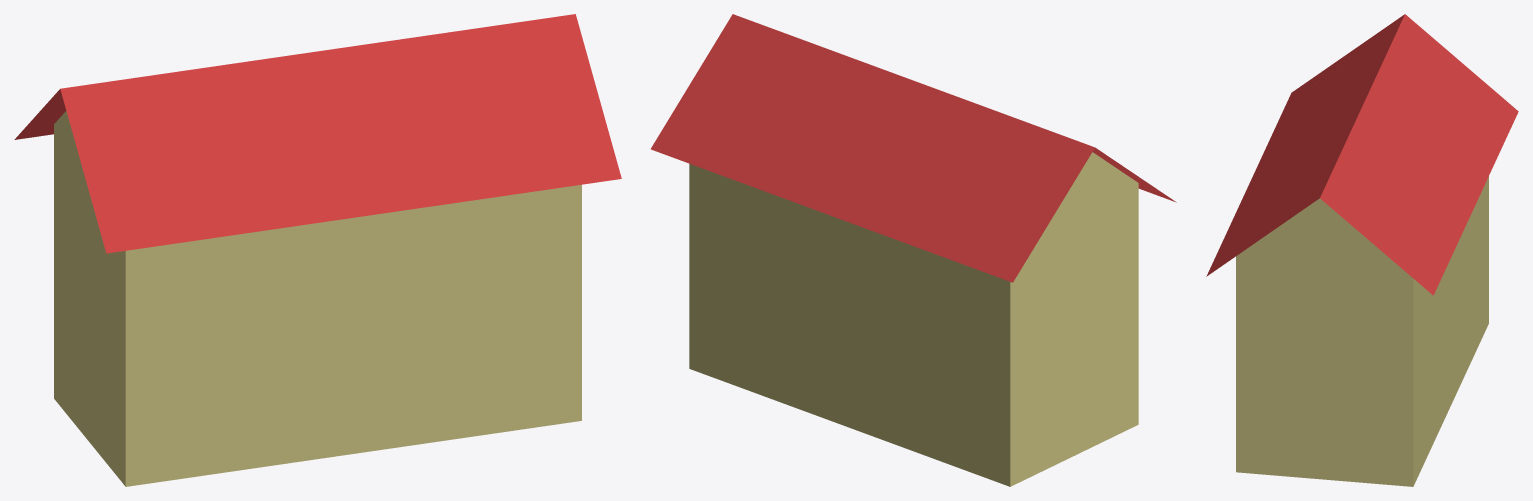
3 views of the same model, side by side, from view 1: azimuth 30°, elevation 25°; view 2: azimuth 150°, elevation 25°; view 3: azimuth 270°, elevation 25° (orthographic). The views are drawn at different scales.
Bounding box in the file's own units: 14.12 × 9.19 × 9.47.
